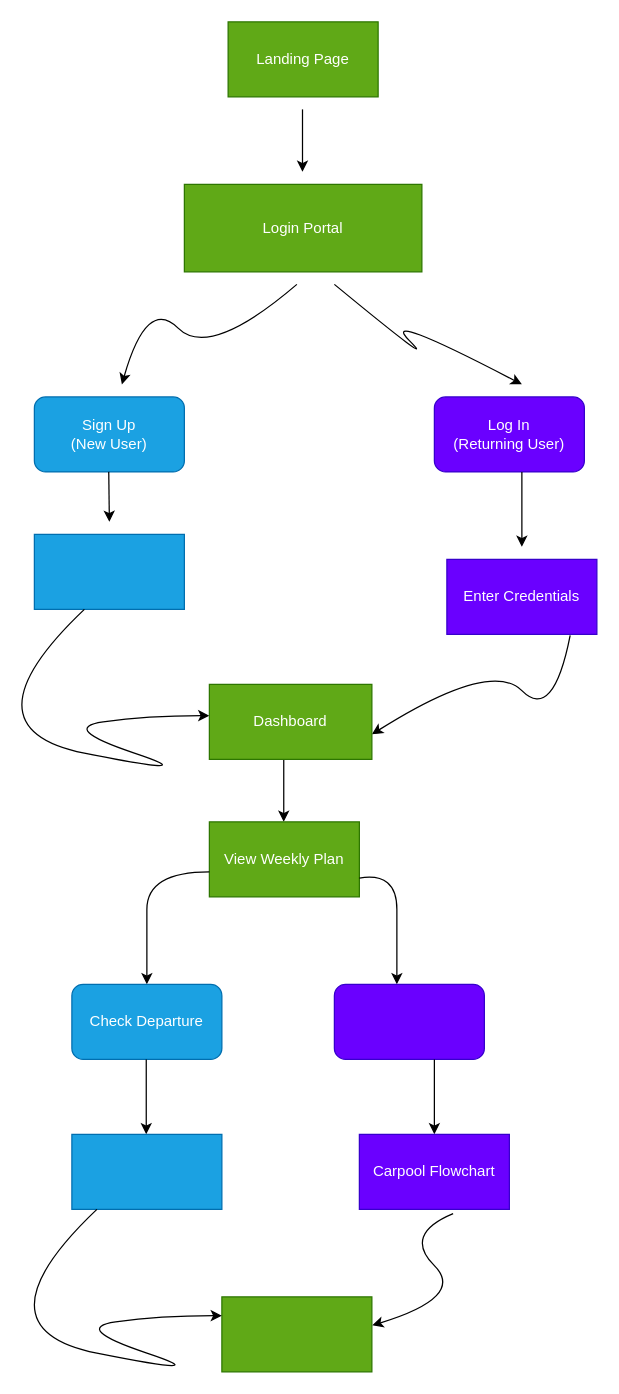
This 619x1394 diagram has some shape labels left out. The shapes that lost their labels are listed below. From the top down, each one's centre as x and y in pixels, then its label:
pixel 108 571: Sign Up Flow Chart
pixel 408 1021: View Carpool
pixel 146 1171: Departure Flowchart
pixel 296 1334: Arrival Flowchart
